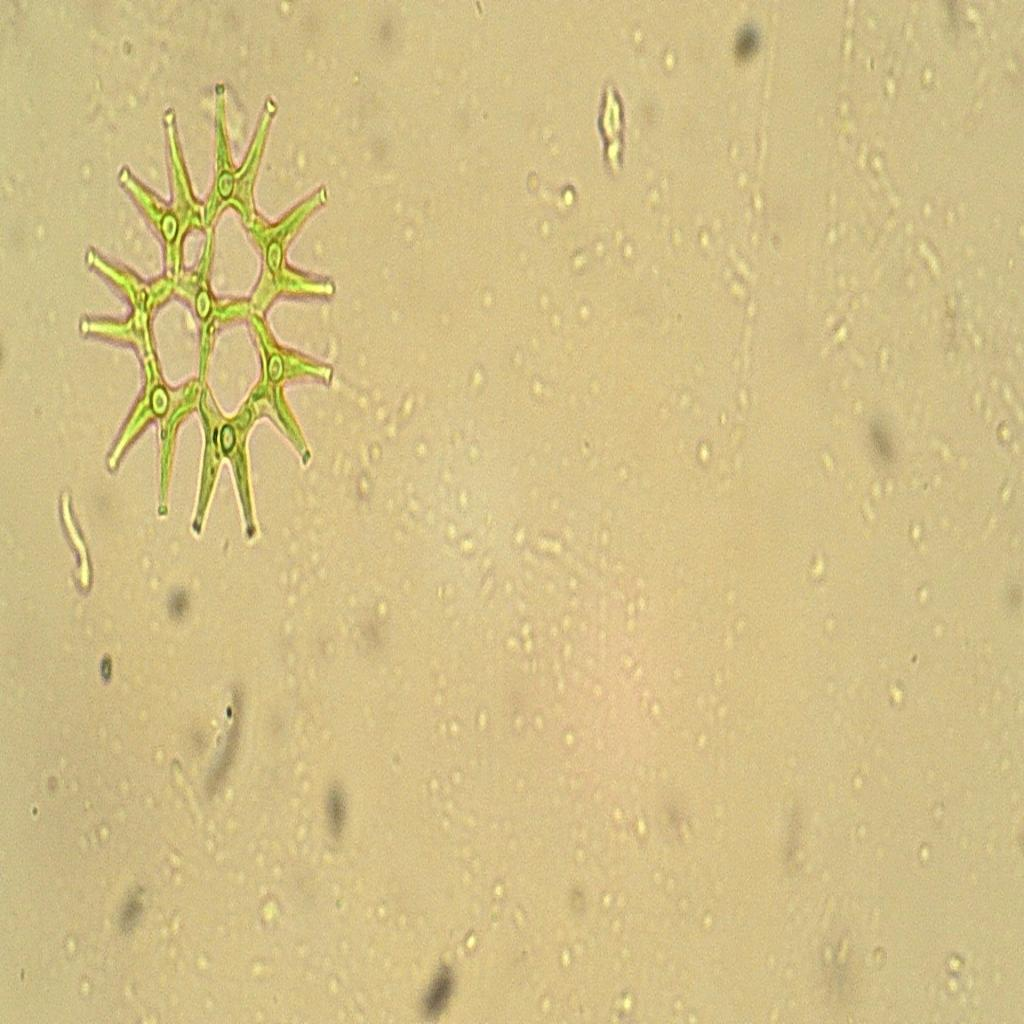Pediastrum_CTH: (66, 61, 350, 566)
